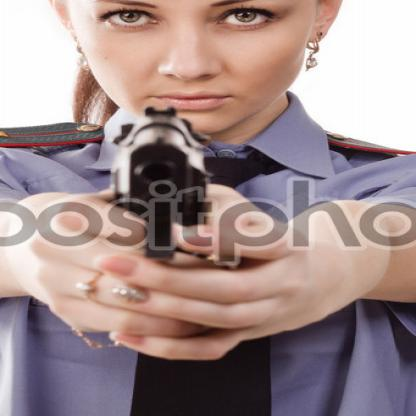gun: (98, 103, 224, 271)
